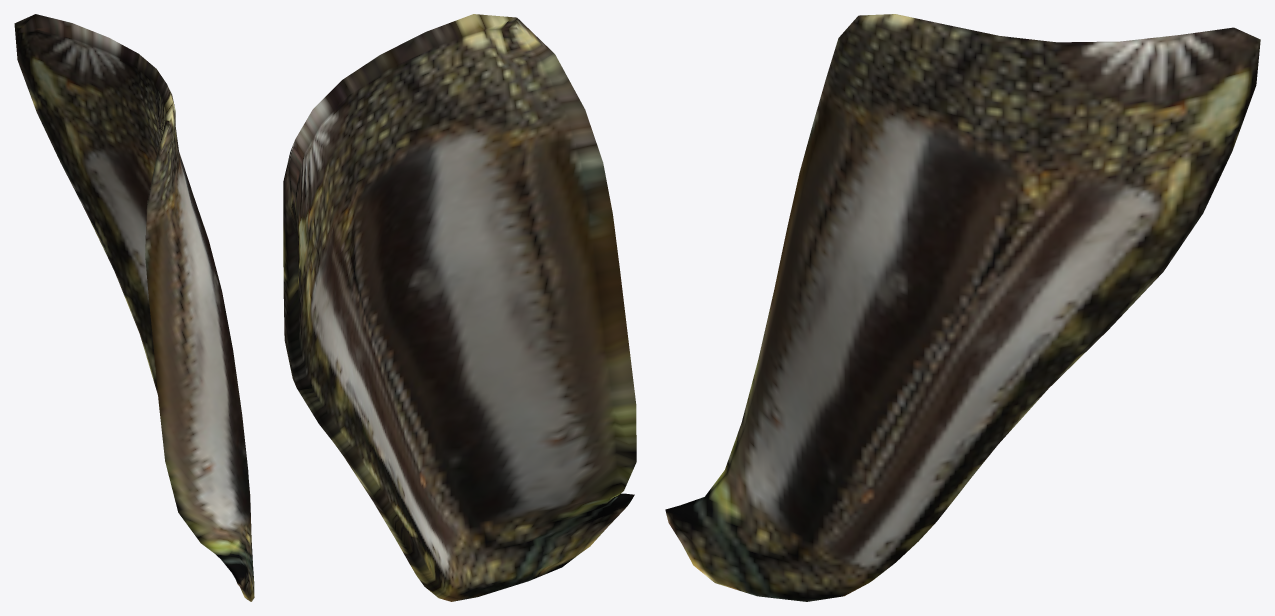
File: armor_kote_R.fbx
3 views of the same model, side by side, from view 1: azimuth 30°, elevation 25°; view 2: azimuth 150°, elevation 25°; view 3: azimuth 270°, elevation 25° (orthographic). The views are drawn at different scales.
Parts seen in each view (by area): view 1: armor_kote_R; view 2: armor_kote_R; view 3: armor_kote_R.
Boxes of the visible parts, bbox=[...] form: armor_kote_R: bbox=[14, 14, 254, 601]; armor_kote_R: bbox=[283, 14, 636, 601]; armor_kote_R: bbox=[665, 14, 1260, 601].
Bounding box in the file's own units: 9.32 × 31.72 × 30.04.
Materials: 1 (1 with a texture image).
